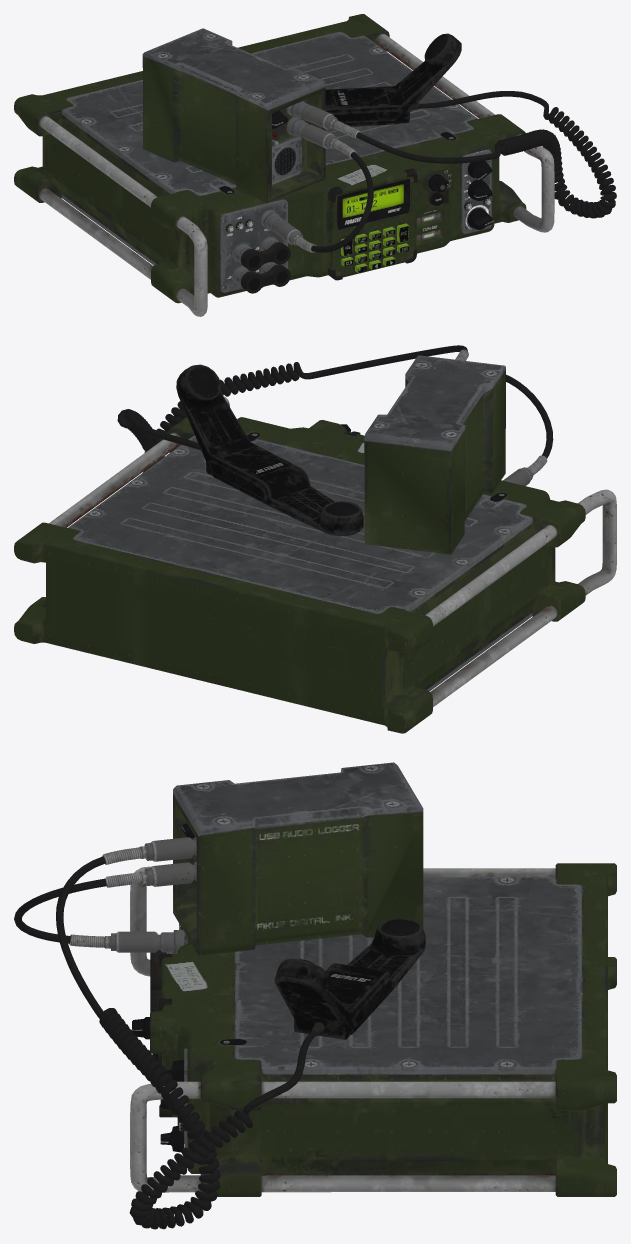
The model's file is military_radio-v2-opt.glb.
The picture shows the model from 3 angles, top to bottom: view 1: azimuth 30°, elevation 25°; view 2: azimuth 150°, elevation 25°; view 3: azimuth 270°, elevation 25°; orthographic projection. The views are drawn at different scales.
Visible parts, largest first — view 1: final_lambert1_0; view 2: final_lambert1_0; view 3: final_lambert1_0.
Part boxes in pixels (<box>): final_lambert1_0: <box>14,14,616,316</box>; final_lambert1_0: <box>14,345,616,733</box>; final_lambert1_0: <box>14,762,616,1229</box>.
Size of the model in its own units: 1.11 by 0.4709 by 1.06.
Materials: 1 (1 with a texture image).
